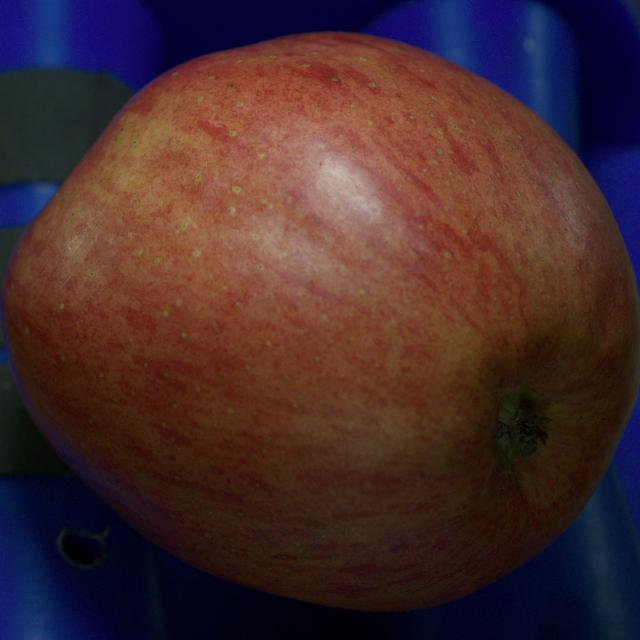apple: (0, 33, 639, 611)
